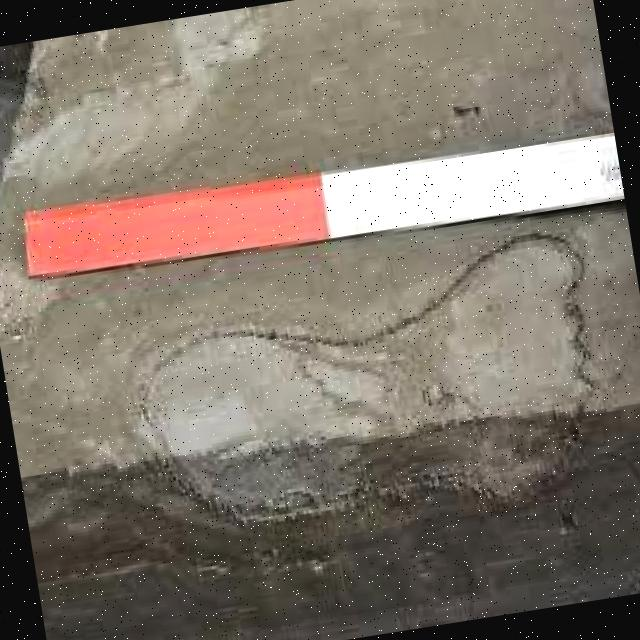curb: (8, 134, 621, 294)
